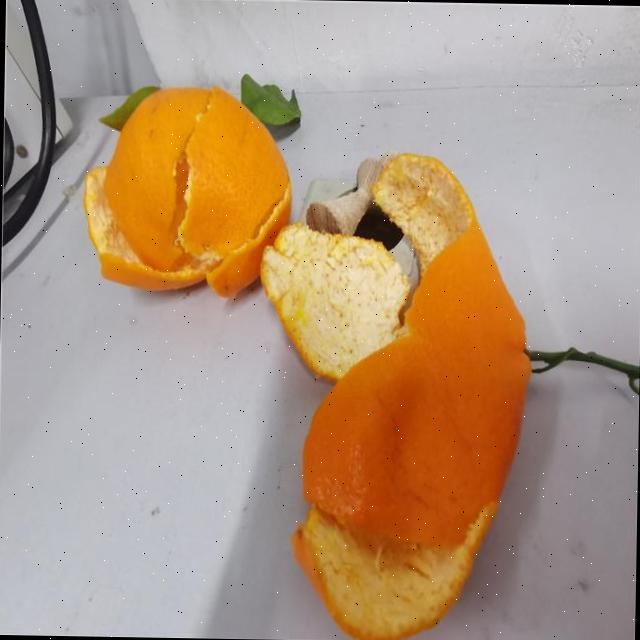orange-peel: (287, 148, 534, 640), (80, 80, 294, 298)
